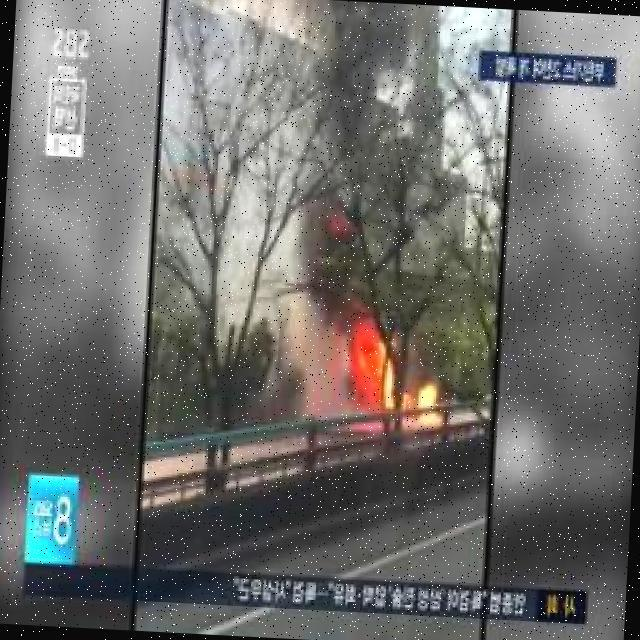Fire: (340, 320, 397, 422), (407, 385, 441, 437)
